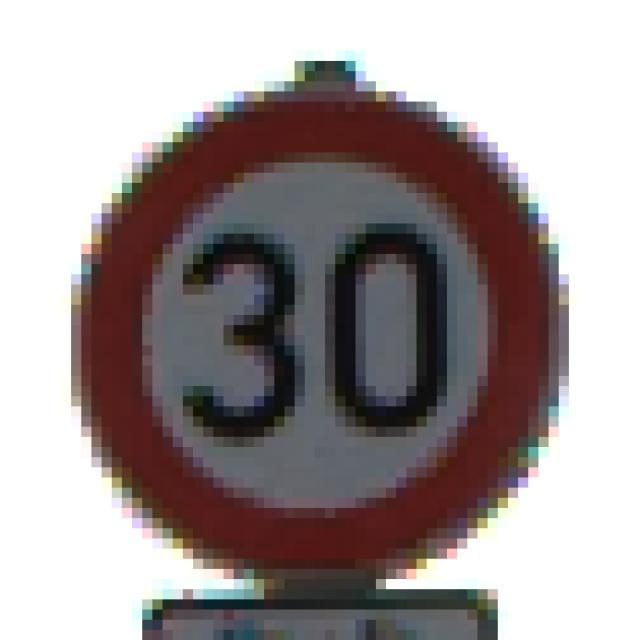Speed Limit -30-: (46, 46, 574, 574)
